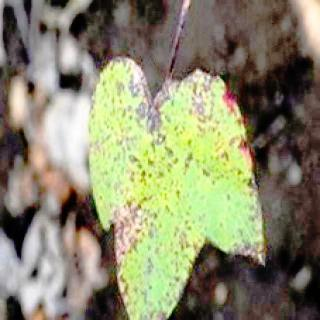leaf spot: (88, 64, 270, 320)
